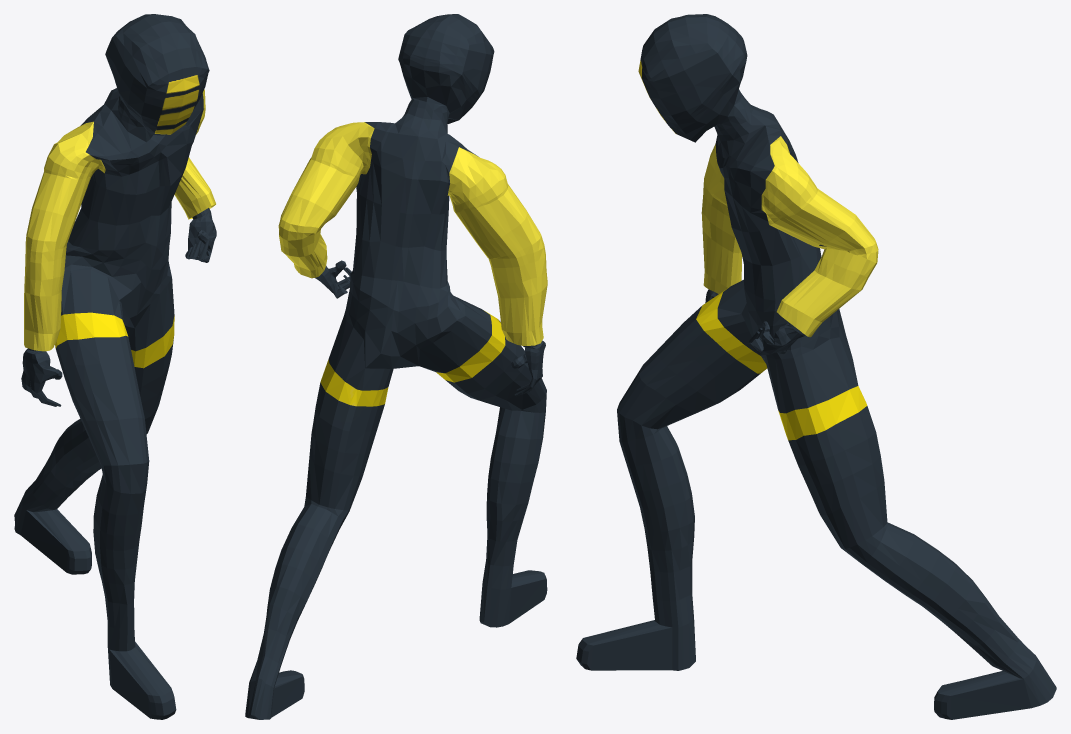
Rendered from Sentry_Stun_000008.obj.
3 views of the same model, side by side, from view 1: azimuth 30°, elevation 25°; view 2: azimuth 150°, elevation 25°; view 3: azimuth 270°, elevation 25° (orthographic). The views are drawn at different scales.
Parts seen in each view (by area): view 1: Cube; view 2: Cube; view 3: Cube.
Part boxes in pixels (bbox=[...]): Cube: bbox=[14, 14, 216, 719]; Cube: bbox=[245, 14, 547, 719]; Cube: bbox=[576, 14, 1056, 719].
Bounding box in the file's own units: 1.27 × 3.45 × 2.23.
